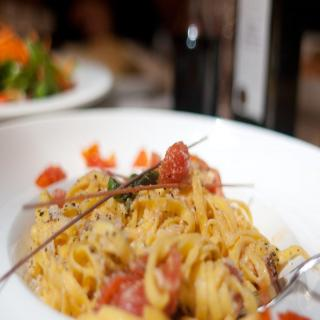Pasta: (29, 145, 314, 320), (0, 19, 80, 103)
